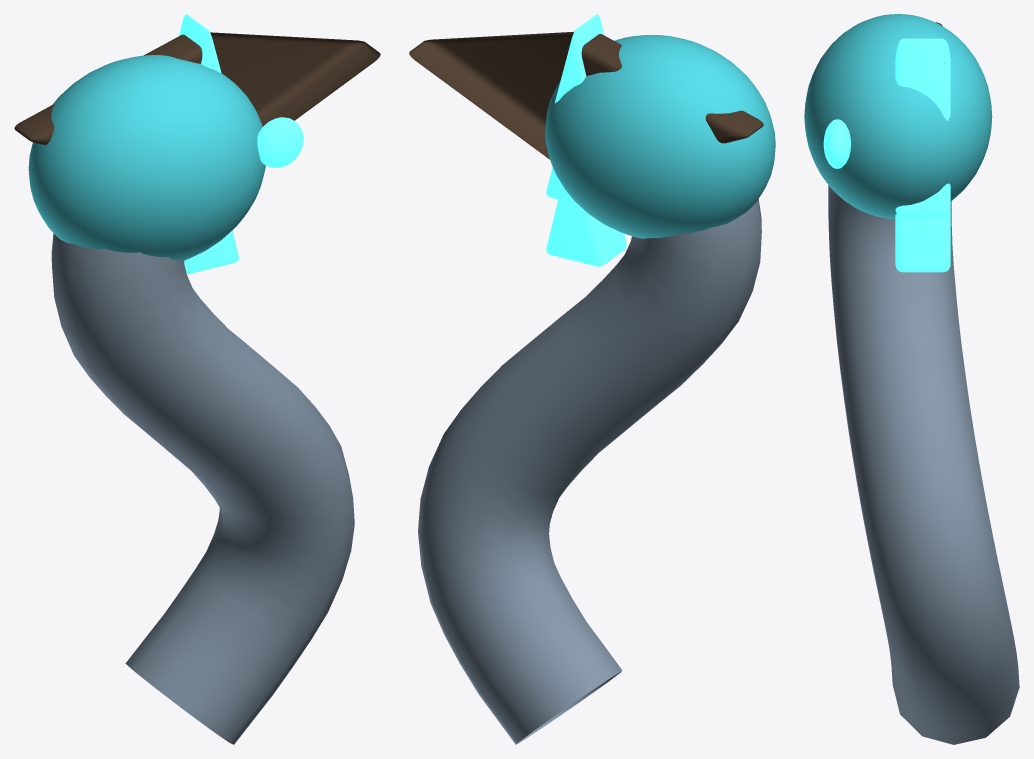
Rendered from serpent_v5.glb.
The picture shows the model from 3 angles, left to right: view 1: azimuth 30°, elevation 25°; view 2: azimuth 150°, elevation 25°; view 3: azimuth 270°, elevation 25°; orthographic projection. The views are drawn at different scales.
Visible parts, largest first — view 1: SEA_SERPENT_PRIMARY, SEA_SERPENT_HEAD_ACCENT, HEAD_FIN_SECONDARY.001, EYE_EMISSIVE.001, HEAD_FIN_SECONDARY, SEA_FIN_EMISSIVE, SEA_FIN_EMISSIVE.002; view 2: SEA_SERPENT_PRIMARY, SEA_SERPENT_HEAD_ACCENT, HEAD_FIN_SECONDARY.001, SEA_FIN_EMISSIVE, HEAD_FIN_SECONDARY, SEA_FIN_EMISSIVE.002; view 3: SEA_SERPENT_PRIMARY, SEA_SERPENT_HEAD_ACCENT, SEA_FIN_EMISSIVE.002, SEA_FIN_EMISSIVE, EYE_EMISSIVE.001, SEA_FIN_EMISSIVE.001.
Boxes of the visible parts, x1,y1,x2,y2 form: SEA_SERPENT_PRIMARY: (51,233,354,744); SEA_SERPENT_HEAD_ACCENT: (28,55,265,260); HEAD_FIN_SECONDARY.001: (210,32,380,126); EYE_EMISSIVE.001: (257,117,303,167); HEAD_FIN_SECONDARY: (14,34,202,145); SEA_FIN_EMISSIVE: (184,230,238,274); SEA_FIN_EMISSIVE.002: (179,14,221,73); SEA_SERPENT_PRIMARY: (418,199,761,744); SEA_SERPENT_HEAD_ACCENT: (545,35,775,238); HEAD_FIN_SECONDARY.001: (409,31,573,159); SEA_FIN_EMISSIVE: (546,189,626,266); HEAD_FIN_SECONDARY: (581,34,763,143); SEA_FIN_EMISSIVE.002: (555,14,603,103); SEA_SERPENT_PRIMARY: (828,185,1019,744); SEA_SERPENT_HEAD_ACCENT: (804,14,992,218); SEA_FIN_EMISSIVE.002: (895,38,950,120); SEA_FIN_EMISSIVE: (895,210,950,272); EYE_EMISSIVE.001: (823,119,850,168); SEA_FIN_EMISSIVE.001: (895,183,950,216).
Size of the model in its own units: 1.37 by 2.74 by 0.7793.
